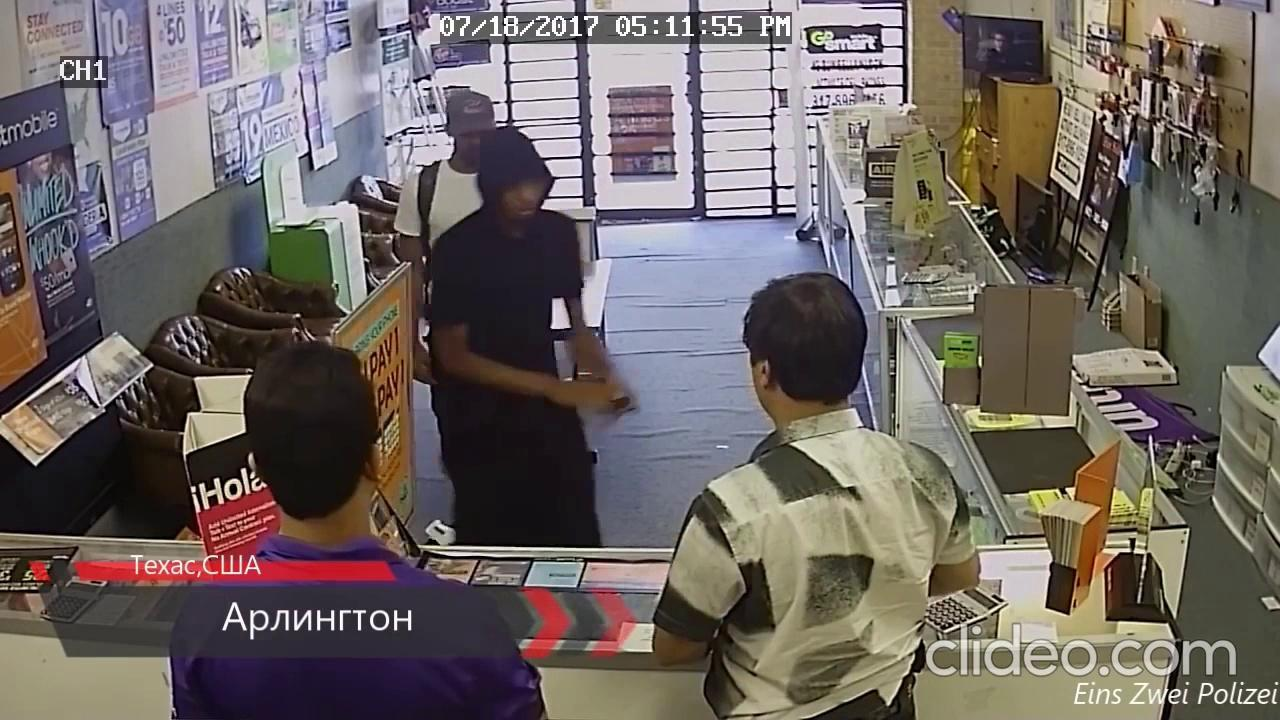person: (652, 270, 983, 720), (167, 338, 551, 720), (428, 123, 641, 548), (394, 88, 501, 550)
pistol: (596, 372, 641, 426)
